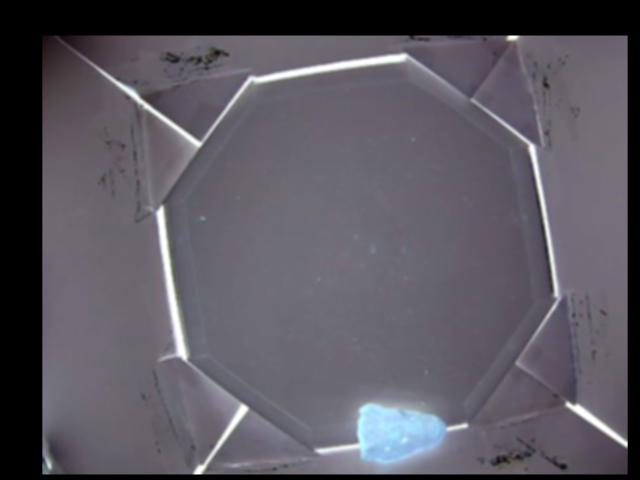Brisk: (356, 404, 445, 460)
